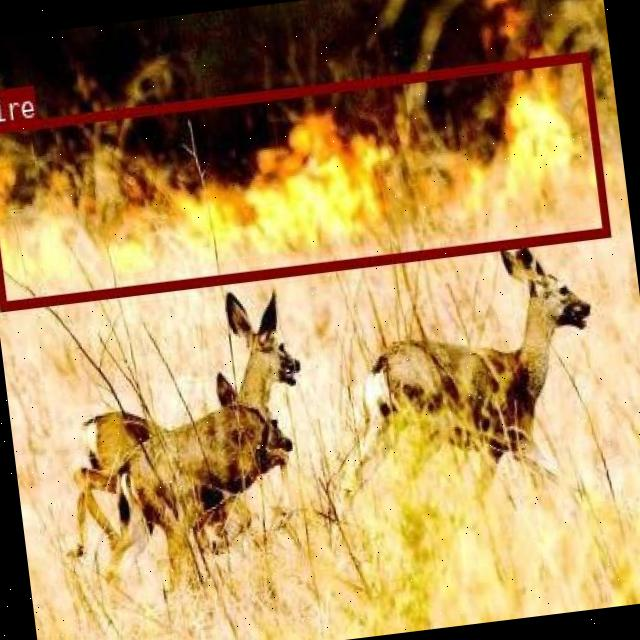fire: (0, 51, 609, 310)
